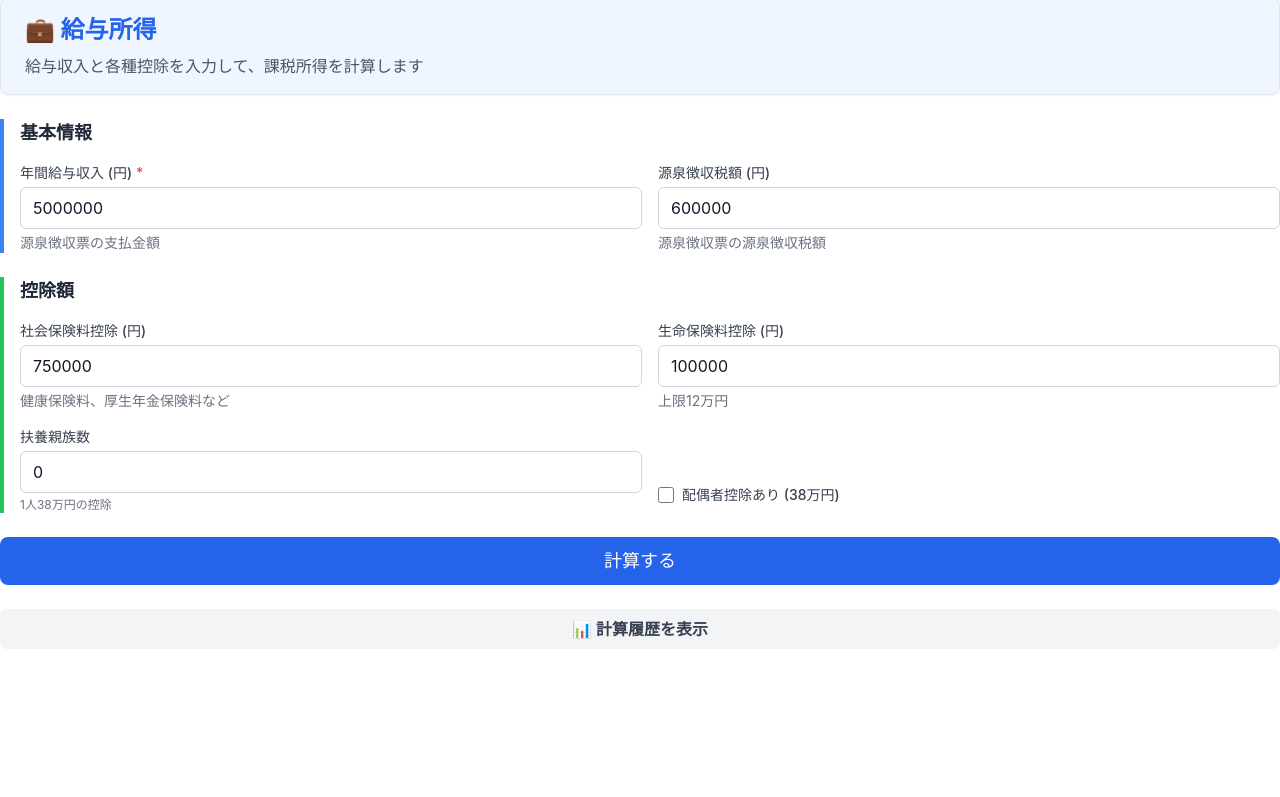
Test: SalaryIncomeModule › 年分別の税額表示（還付・納付） › 源泉徴収税額が不足する場合は納付見込み額を表示する
Click the button "計算する".
click(640, 561)  # box [0,537,1279,585]
(page scrolled)
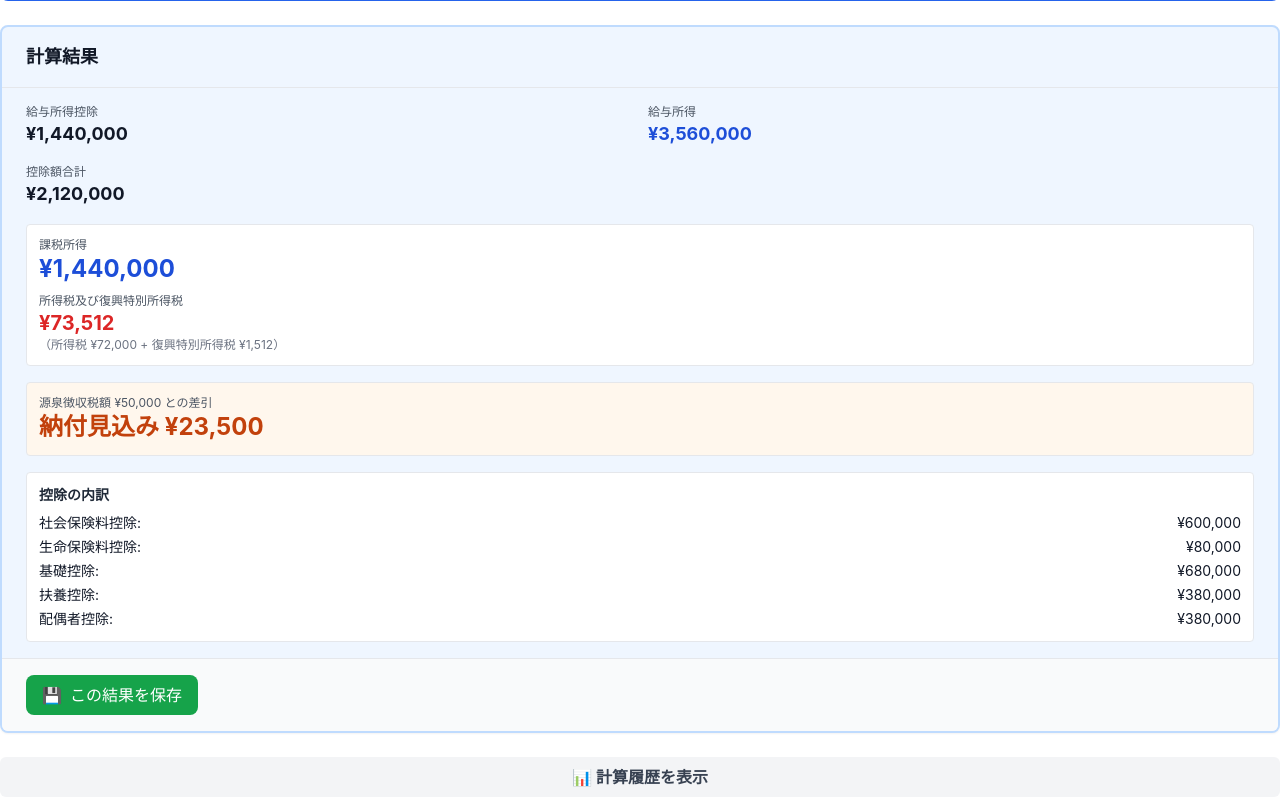
Check: the element with test id "salary-tax-settlement" does not show "還付見込み", box [26,382,1254,456]
Check: the element with test id "salary-tax-settlement" shows "納付見込み ¥23,500", box [26,382,1254,456]
